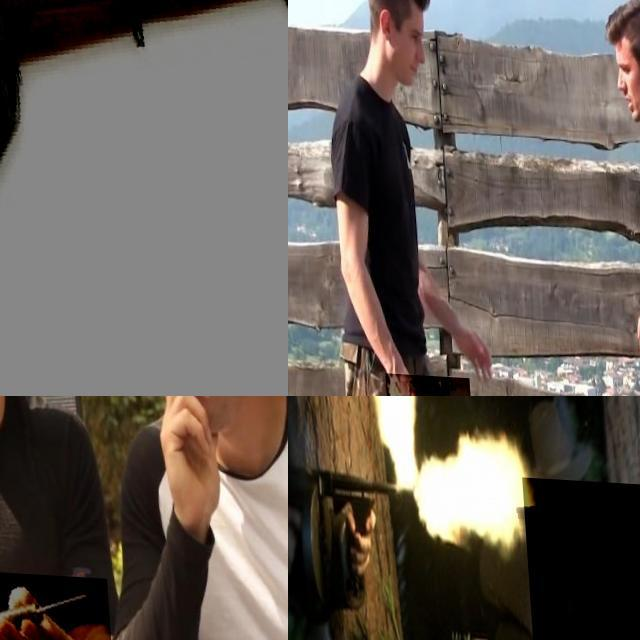-: (0, 568, 104, 640), (378, 371, 465, 396)
gun-knife-thesis - v11 Yolov5 augmented: (0, 0, 288, 396), (518, 473, 640, 640)
